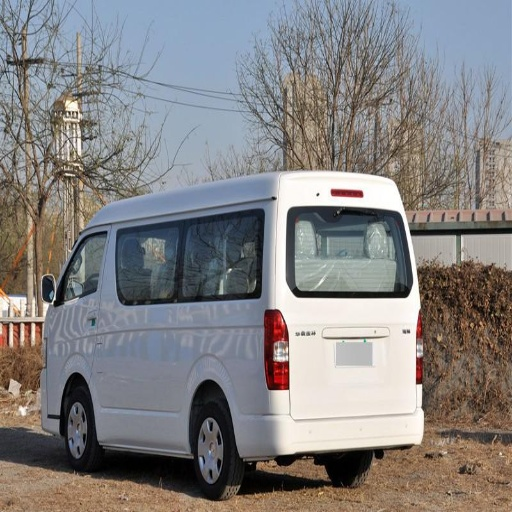back_bumper: (243, 402, 422, 457)
back_left_light: (264, 313, 288, 389)
back_right_door: (142, 218, 230, 272)
trunk: (73, 301, 418, 453)
